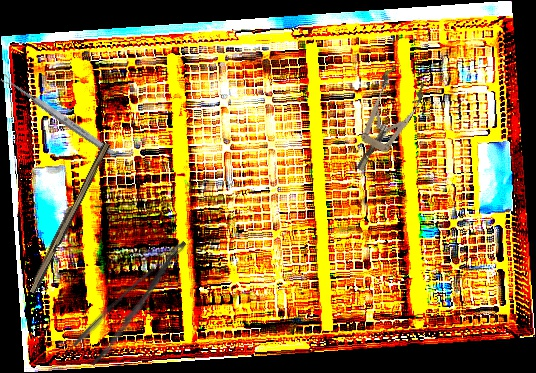Dressing Forceps: (70, 238, 205, 367)
Scalpel Handle: (26, 139, 111, 296)
Speculum: (338, 63, 430, 180)
Surgical Spoon: (0, 72, 115, 158)
